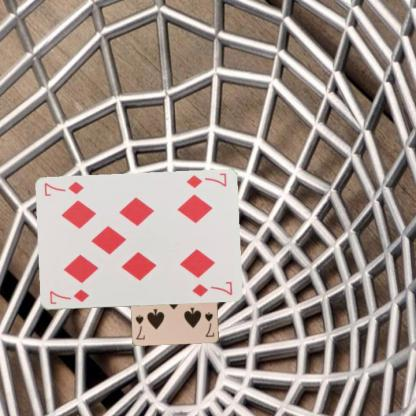7d: (46, 286, 90, 306), (184, 171, 228, 190)
7s: (202, 310, 216, 338)
